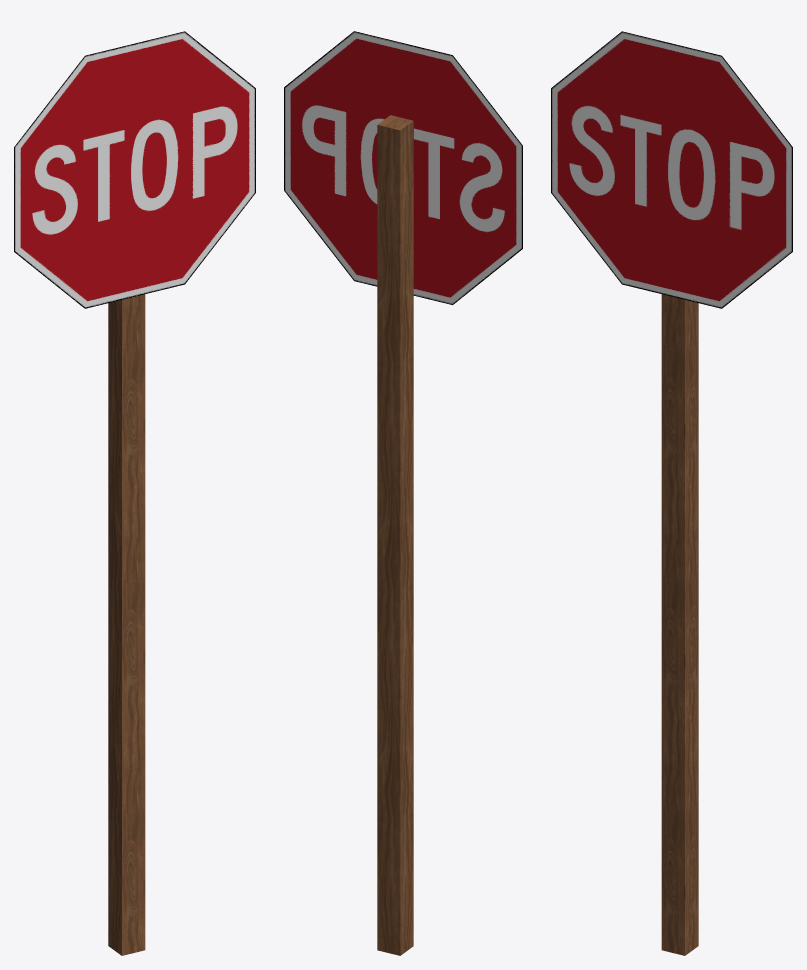
The model's file is StopSign.fbx.
3 views of the same model, side by side, from view 1: azimuth 30°, elevation 25°; view 2: azimuth 150°, elevation 25°; view 3: azimuth 330°, elevation 25° (orthographic).
Parts seen in each view (by area): view 1: StopSign; view 2: StopSign; view 3: StopSign.
Part boxes in pixels (x1=…): StopSign: x1=14, y1=31, x2=255, y2=955; StopSign: x1=284, y1=31, x2=522, y2=955; StopSign: x1=551, y1=31, x2=792, y2=955.
Size of the model in its own units: 100 by 360 by 10.65.
3 materials, 3 textured.
